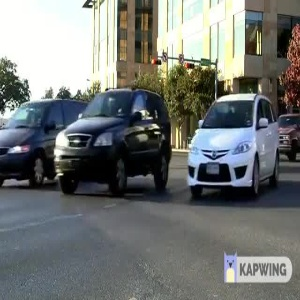suv: (54, 84, 179, 196)
van: (183, 93, 281, 197)
